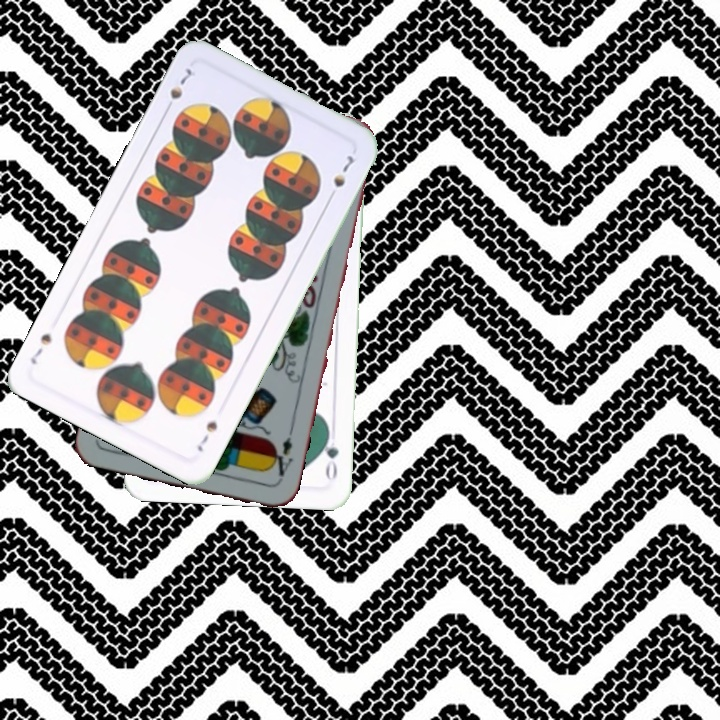EA: (266, 433, 296, 483)
GO: (318, 425, 341, 484)
S7: (160, 61, 197, 116), (193, 417, 221, 454)
